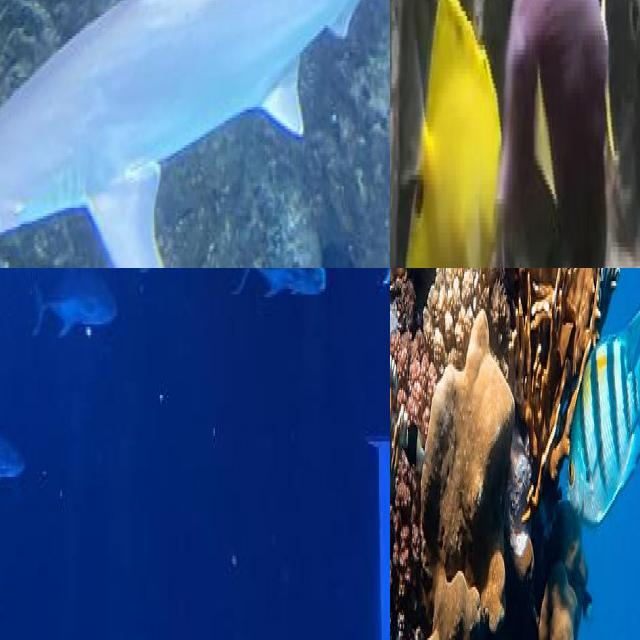fish: (0, 0, 390, 268), (451, 268, 640, 640)
